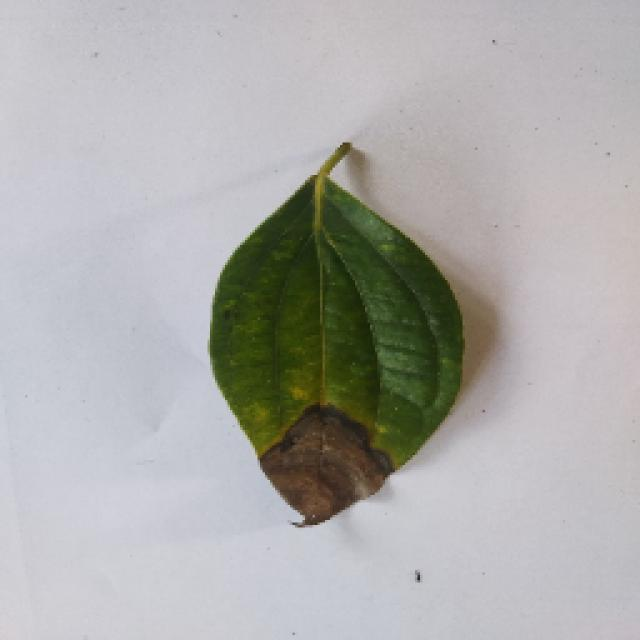footrot: (195, 132, 470, 522)
